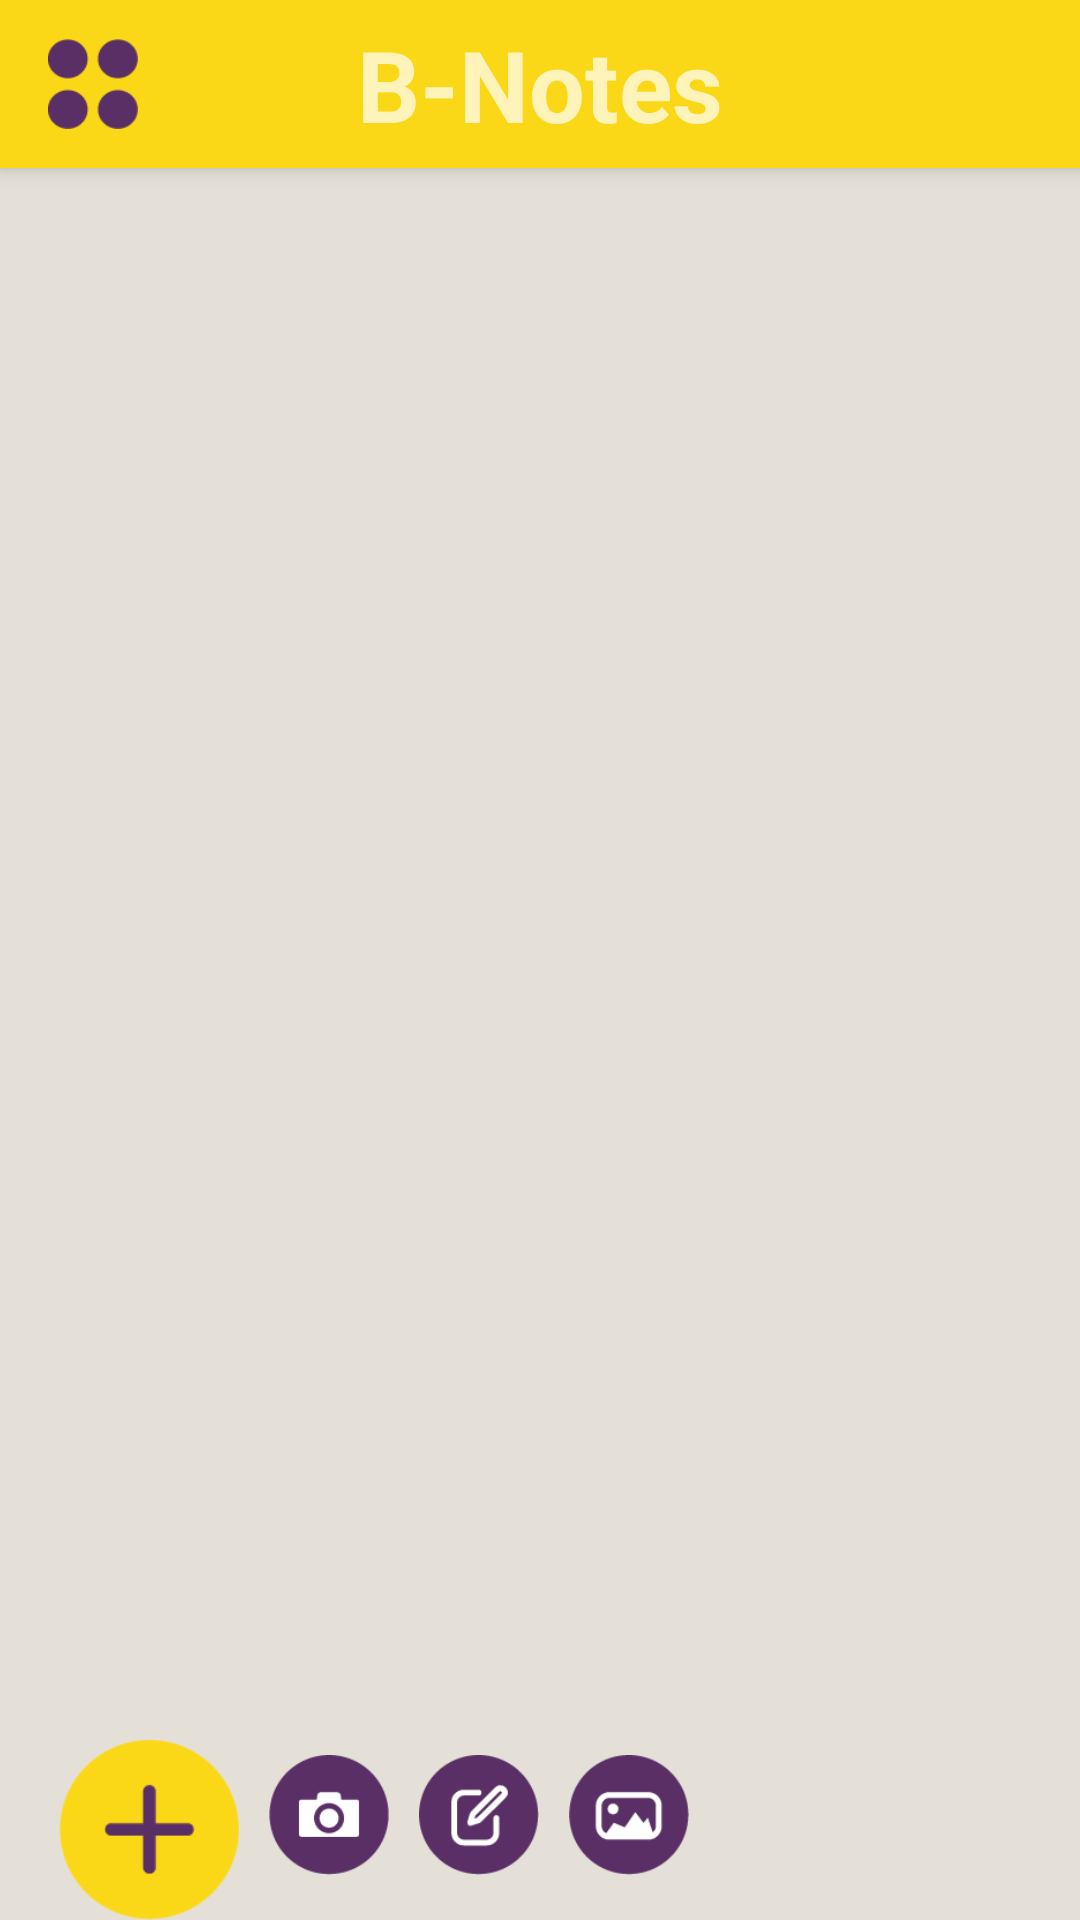

Icons on this 1080px×1920px Android screen, each with the point to tap as [x,y]:
camera: [329,1815]
dots: [93,84]
notes: [479,1815]
plus: [149,1830]
